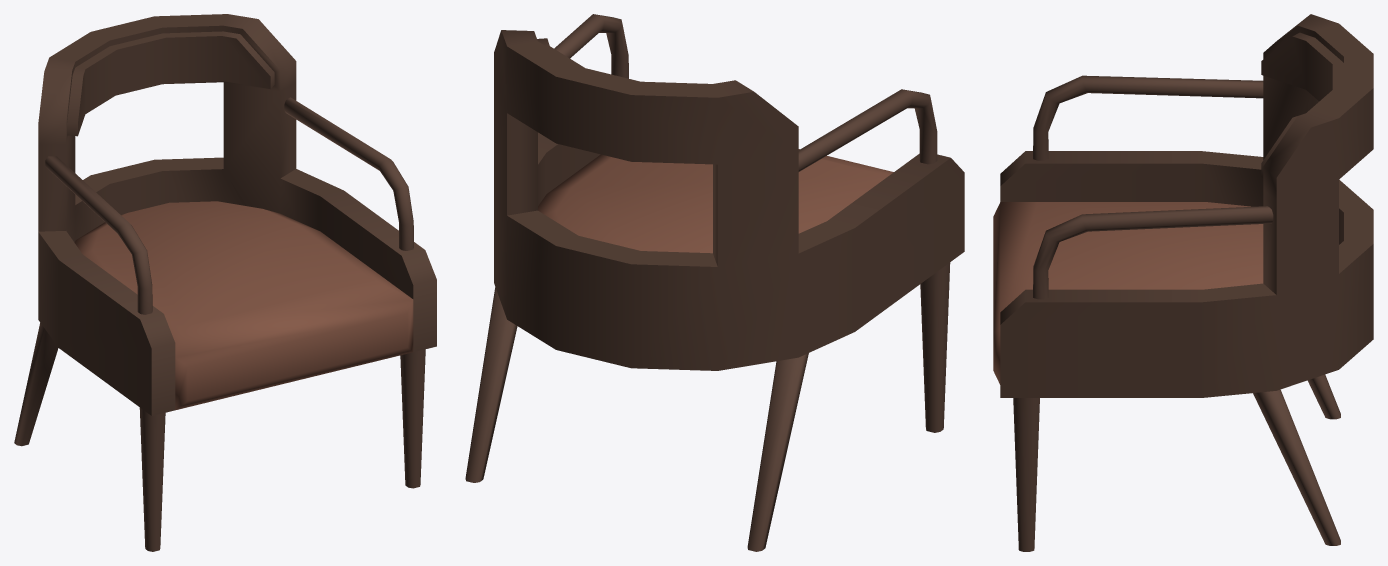
Rendered from armchair006.glb.
3 views of the same model, side by side, from view 1: azimuth 30°, elevation 25°; view 2: azimuth 150°, elevation 25°; view 3: azimuth 270°, elevation 25° (orthographic). The views are drawn at different scales.
Parts seen in each view (by area): view 1: armchair.006; view 2: armchair.006; view 3: armchair.006.
Part boxes in pixels (box(x1,y1,x2,y2)): armchair.006: box(14, 14, 436, 551); armchair.006: box(465, 14, 964, 551); armchair.006: box(993, 14, 1373, 551).
Size of the model in its own units: 0.6838 by 0.8617 by 0.7273.
Materials: 1 (1 with a texture image).
